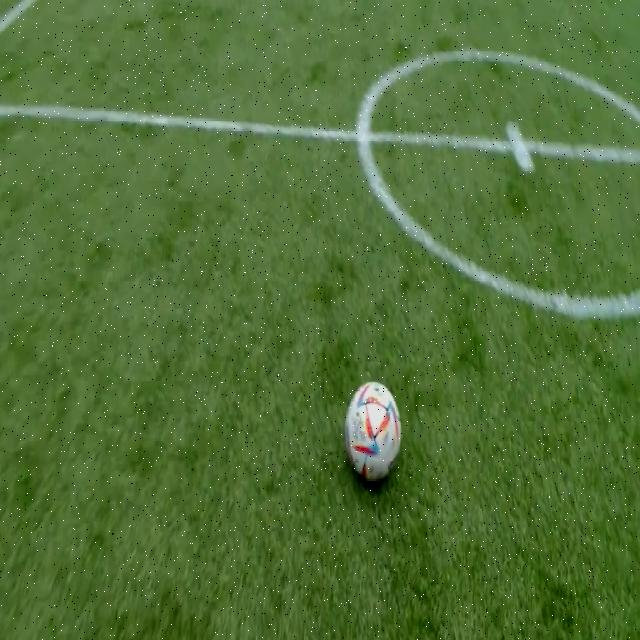ball: (346, 380, 400, 483)
